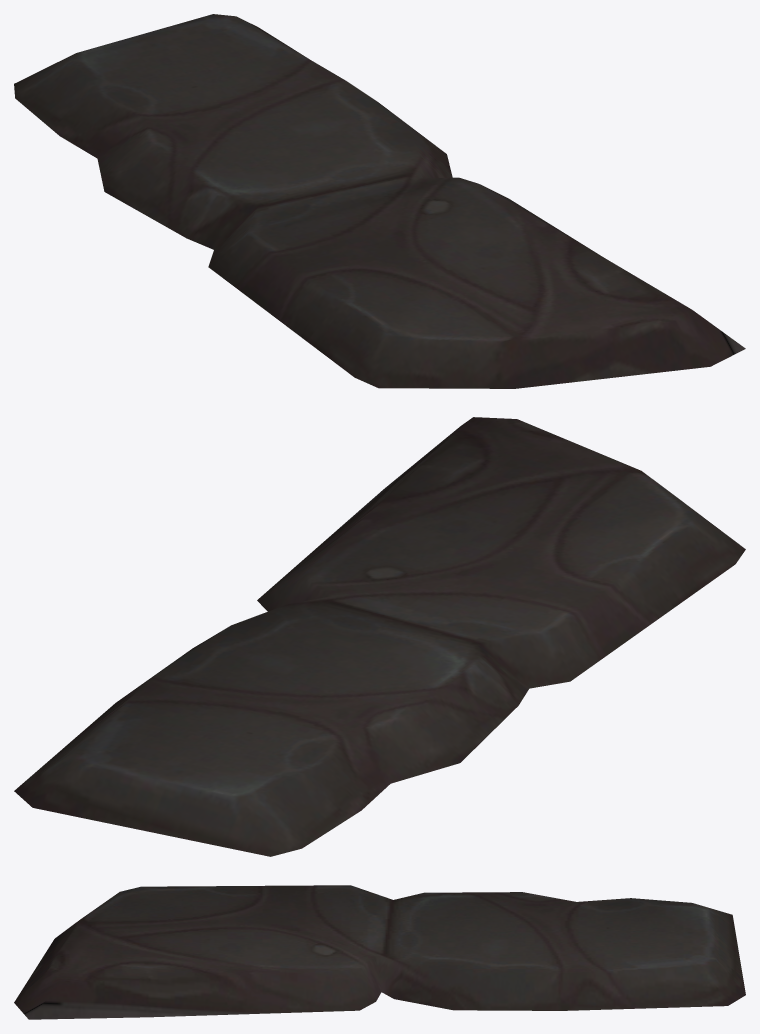
The model's file is dxlm_zhuan_04.FBX.
3 views of the same model, one above another, from view 1: azimuth 30°, elevation 25°; view 2: azimuth 150°, elevation 25°; view 3: azimuth 270°, elevation 25° (orthographic). The views are drawn at different scales.
Parts seen in each view (by area): view 1: Object050; view 2: Object050; view 3: Object050.
Boxes of the visible parts, x1,y1,x2,y2 form: Object050: [14, 14, 745, 388]; Object050: [14, 417, 745, 856]; Object050: [14, 885, 745, 1019].
Bounding box in the file's own units: 63.86 × 5.95 × 162.
